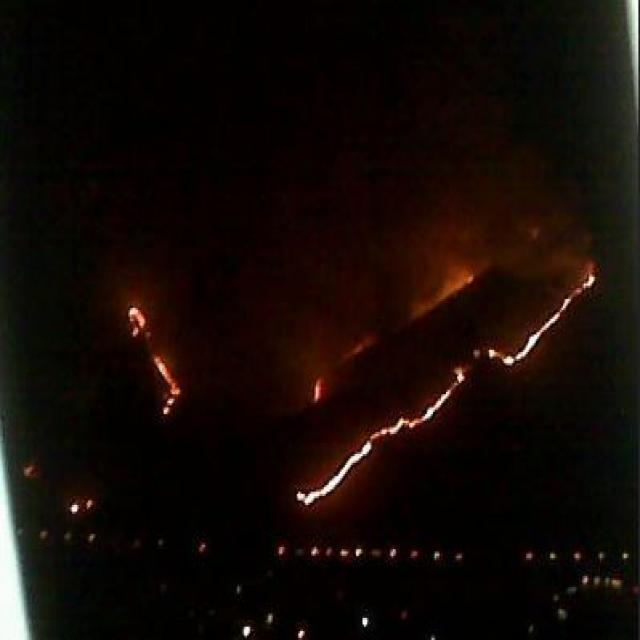Fire: (300, 368, 473, 514), (480, 268, 610, 372), (150, 343, 180, 423), (120, 304, 148, 346)
